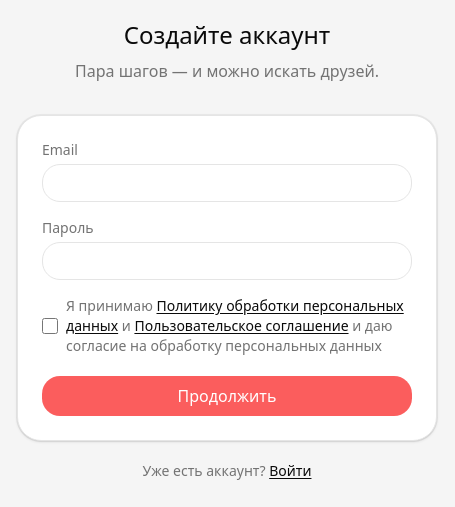
Scenario: blocks submission without consent and shows the required-consent error
This screenshot has width=455, height=507.
In the field labelled "Email": (227, 183) 42,164 -> 412,202, type "a@b.com"
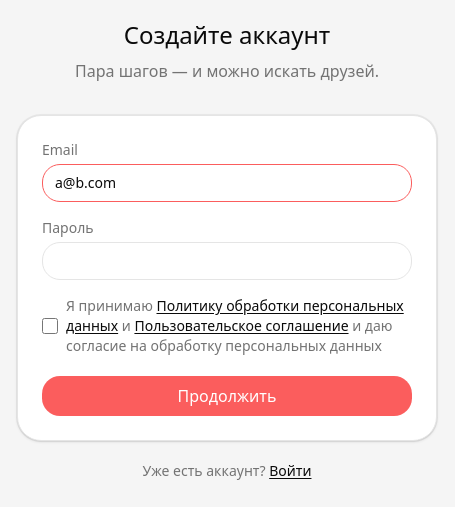
In the password field labelled "Пароль": (227, 261) 42,242 -> 412,280, type "password123"
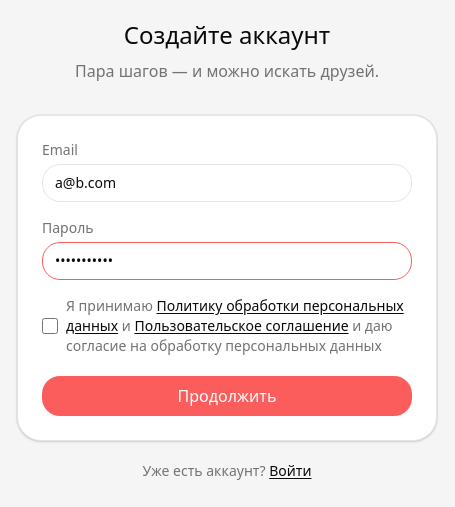
Click the button "Продолжить": click(227, 396) 42,376 -> 412,416
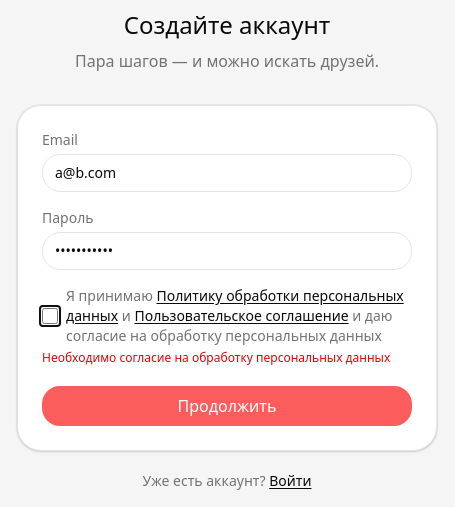
Result: the text "Необходимо согласие на обработку персональных данных" is shown at 42,350 -> 412,366
